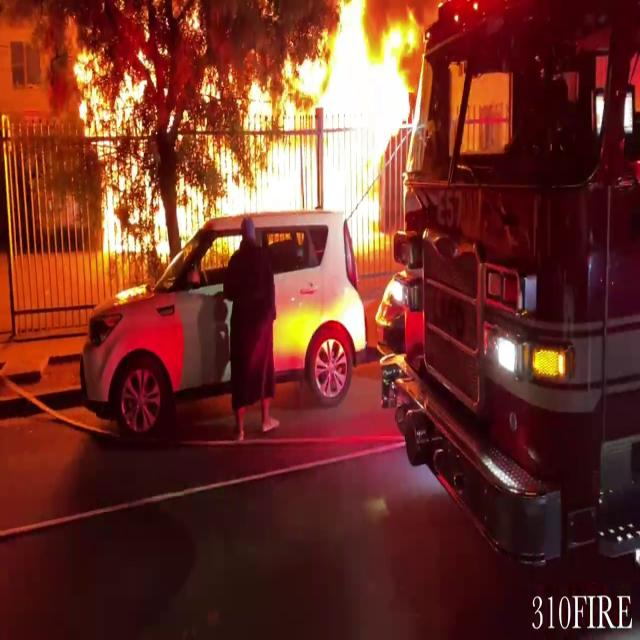Fire: (62, 0, 423, 277)
